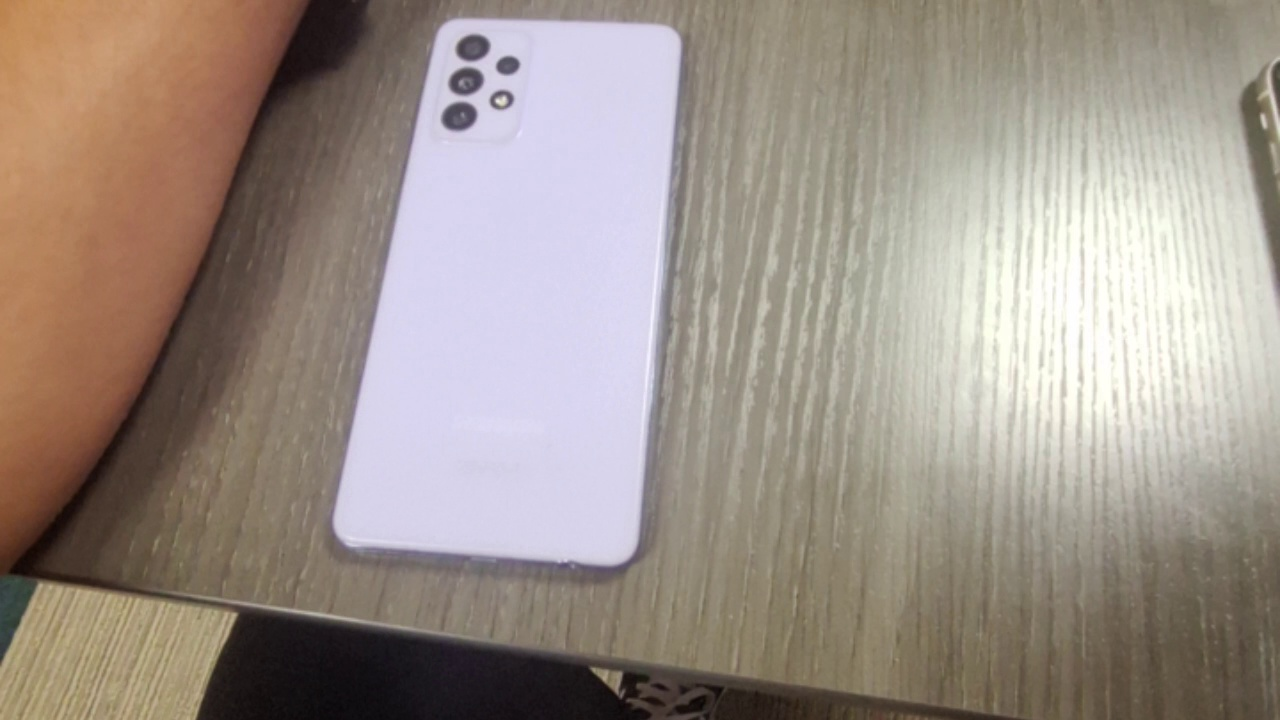celular: (327, 20, 687, 570)
